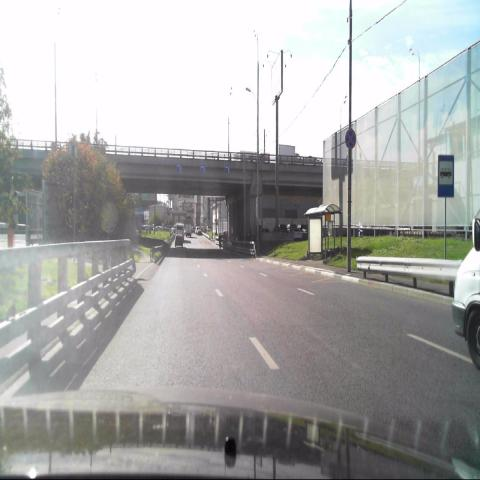3_27: (344, 128, 357, 148)
5_16: (438, 152, 454, 198)
